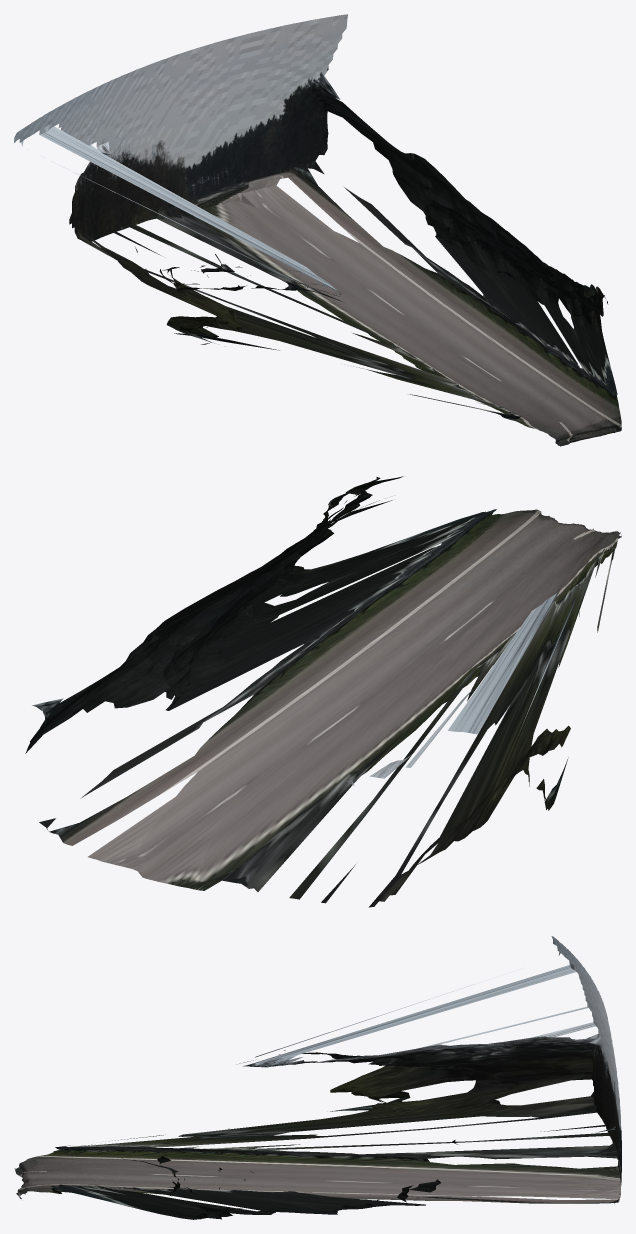
The picture shows the model from 3 angles, top to bottom: view 1: azimuth 30°, elevation 25°; view 2: azimuth 150°, elevation 25°; view 3: azimuth 270°, elevation 25°; orthographic projection. The views are drawn at different scales.
Parts seen in each view (by area): view 1: defaultobject; view 2: defaultobject; view 3: defaultobject.
Boxes of the visible parts, x1=… form: defaultobject: x1=14, y1=14, x2=621, y2=446; defaultobject: x1=25, y1=476, x2=621, y2=907; defaultobject: x1=14, y1=936, x2=621, y2=1219.
Bounding box in the file's own units: 28.8 × 12.44 × 44.65.
1 material, 1 textured.
